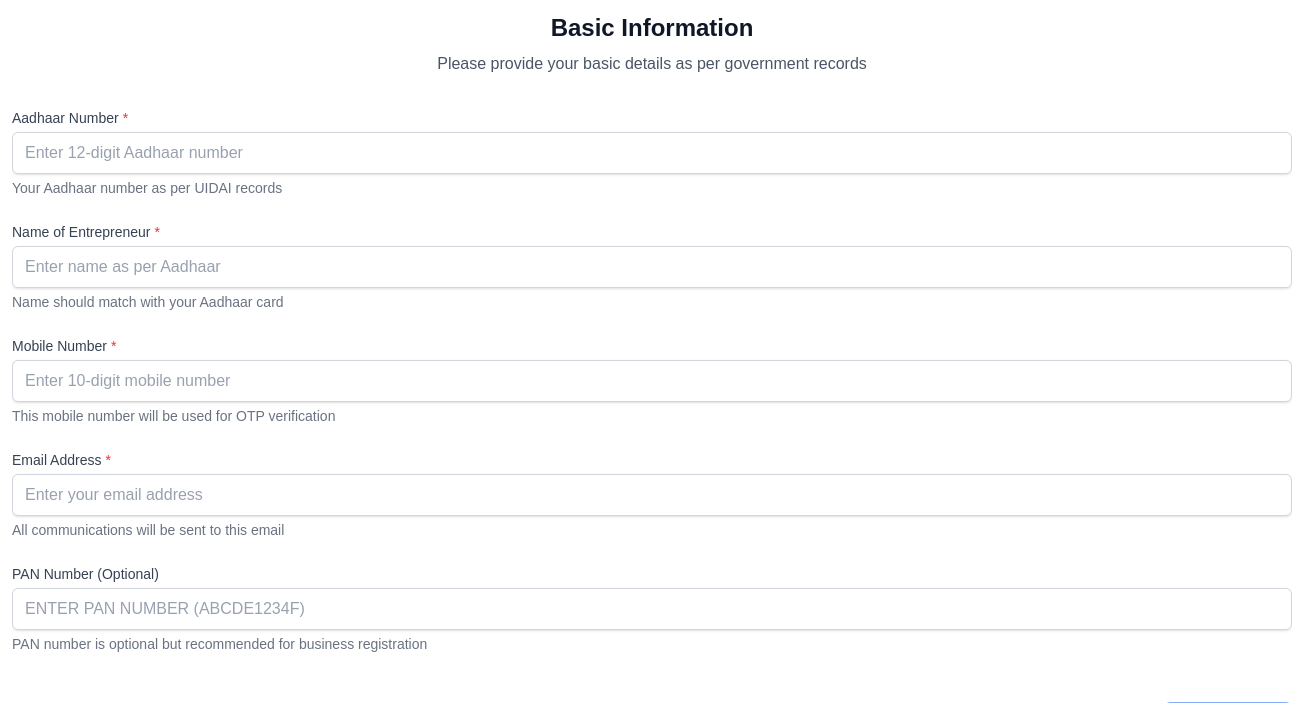
Step1Form › should validate mobile number format
Type "1234567890" into the field labelled "Mobile Number*".
click(652, 381); type("1234567890")  # box left=12, top=360, right=1292, bottom=402
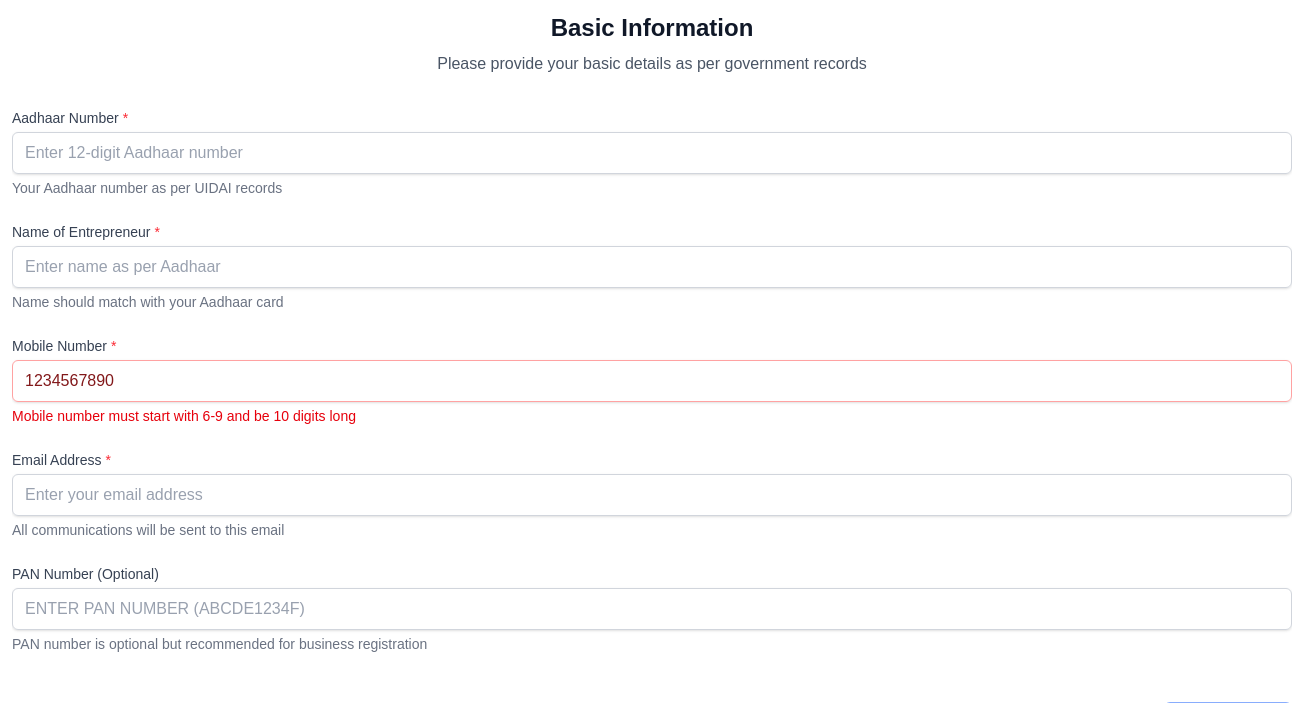
Check: the text "Mobile number must start with 6-9 and be 10 digits long" is shown, box left=12, top=408, right=356, bottom=424
